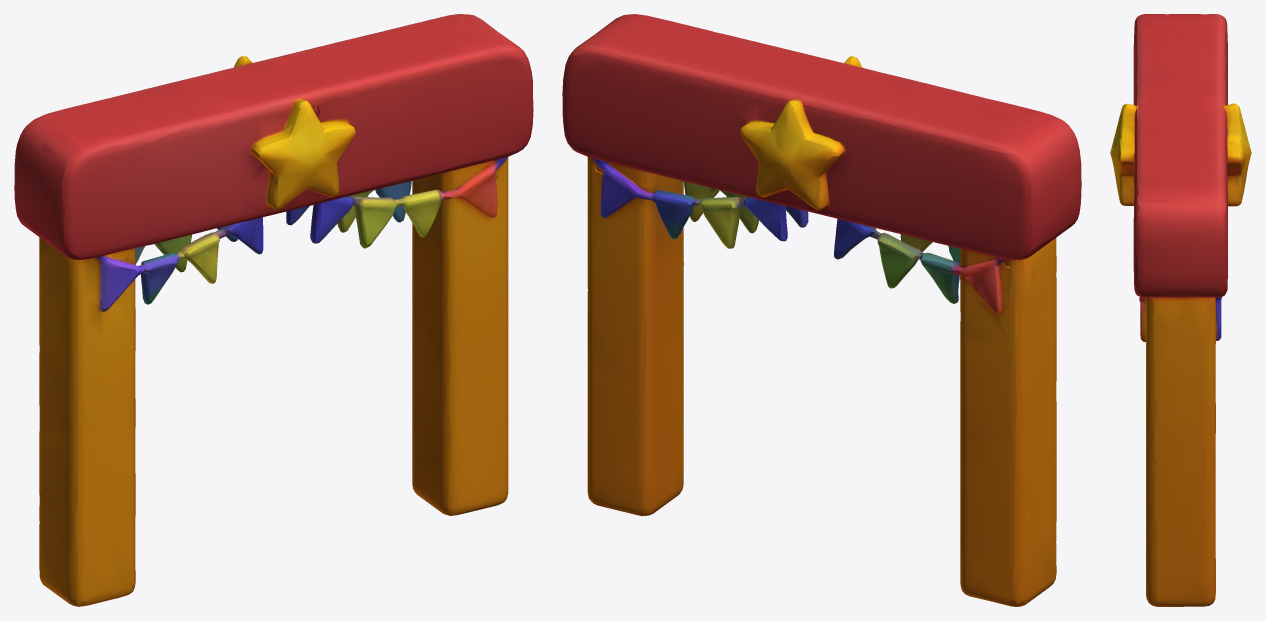
The model's file is PROP_C1_FINISHARCH.glb.
The picture shows the model from 3 angles, left to right: view 1: azimuth 30°, elevation 25°; view 2: azimuth 150°, elevation 25°; view 3: azimuth 270°, elevation 25°; orthographic projection. The views are drawn at different scales.
Visible parts, largest first — view 1: world; view 2: world; view 3: world.
Boxes of the visible parts, x1=… form: world: x1=14, y1=14, x2=533, y2=606; world: x1=562, y1=14, x2=1081, y2=606; world: x1=1110, y1=14, x2=1251, y2=606.
Size of the model in its own units: 1 by 0.9426 by 0.2933.
1 material, 1 textured.
